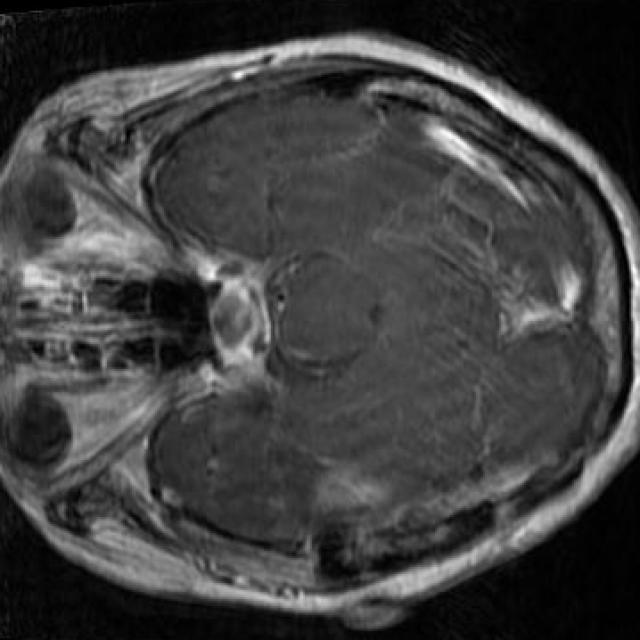glioma: (318, 460, 390, 521)
